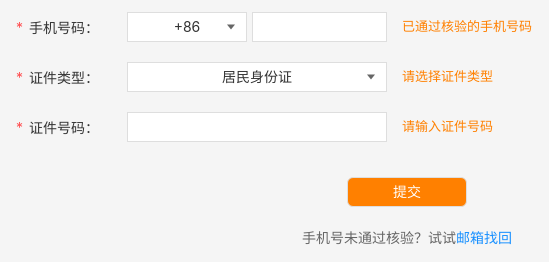
Test: AccountInfoStep 组件测试 › 验证逻辑 › 应该在提交时验证空字段
Click the button "提交": (407, 192) [347, 177, 467, 207]
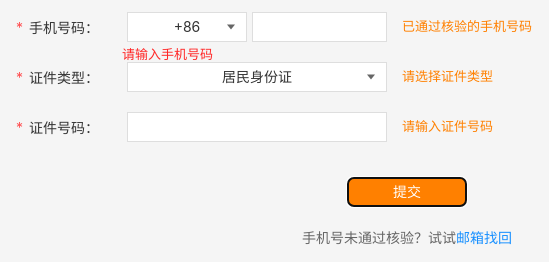
Result: the text "请输入手机号码" is shown at [122, 44, 213, 64]
